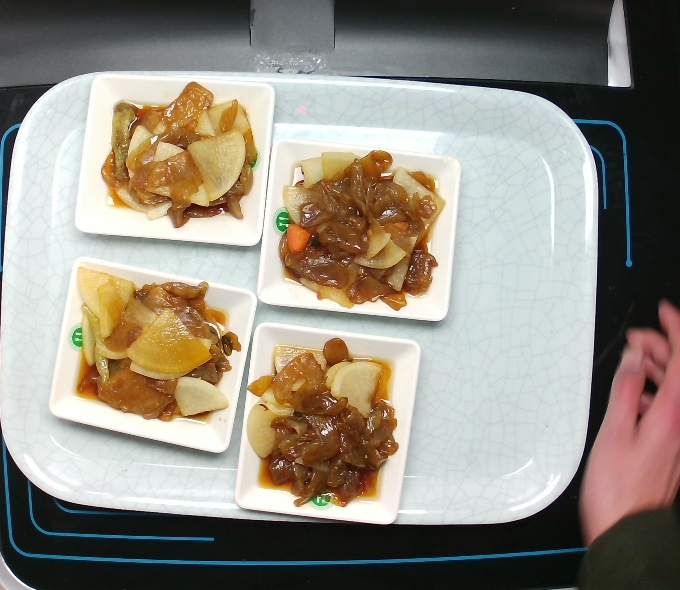wcq-HaiZheTou: (240, 333, 403, 513), (68, 264, 248, 424), (279, 145, 449, 314), (93, 77, 262, 229)
